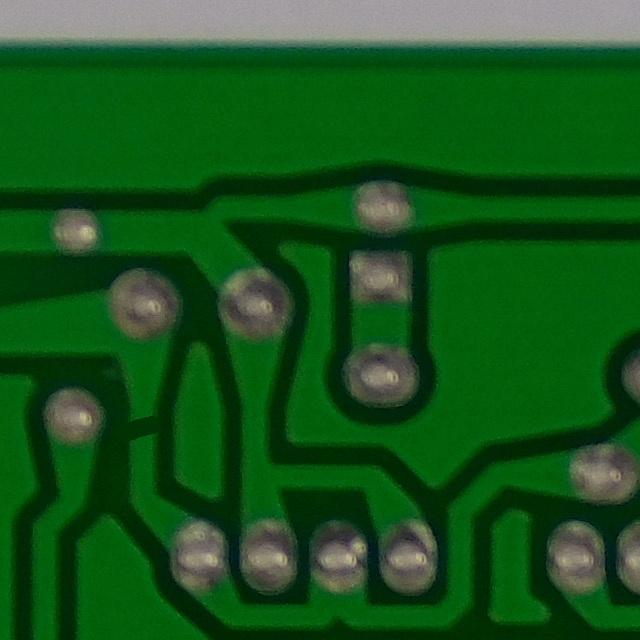open_circuit: (110, 405, 168, 453)
